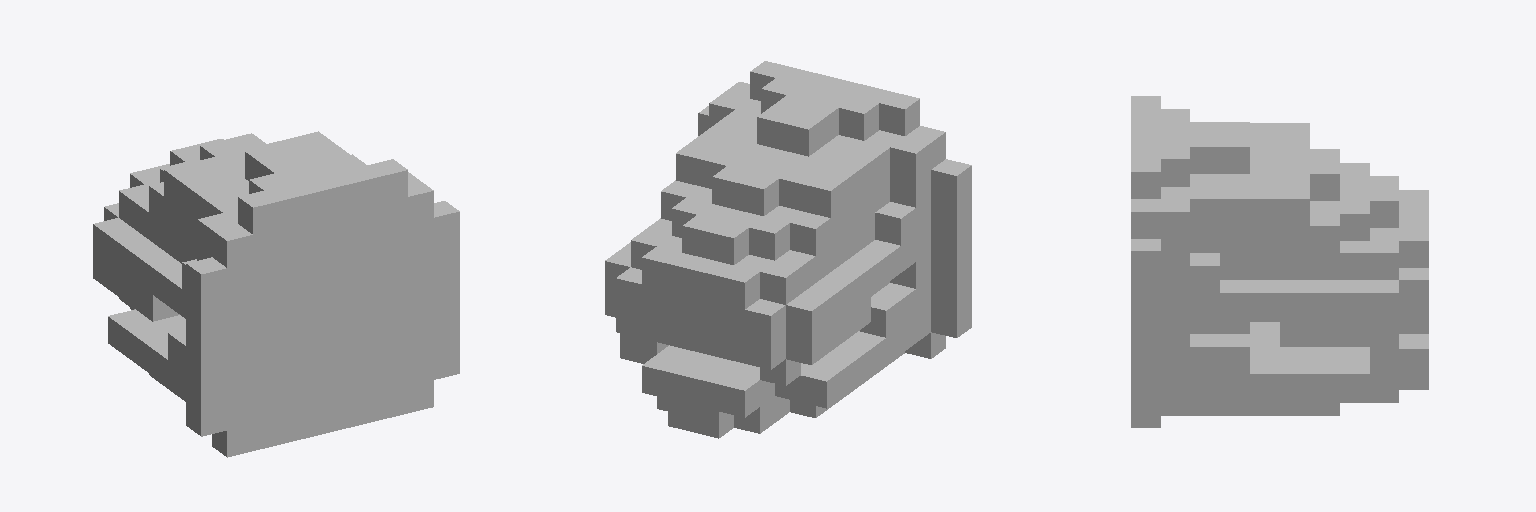
File: head.obj
The picture shows the model from 3 angles: view 1: azimuth 30°, elevation 25°; view 2: azimuth 150°, elevation 25°; view 3: azimuth 270°, elevation 25°; orthographic projection.
Visible parts, largest first — view 1: object 1; view 2: object 1; view 3: object 1.
Boxes of the visible parts, box(x1,y1,x2,y2) form: object 1: box(93, 131, 459, 457); object 1: box(605, 61, 971, 438); object 1: box(1131, 96, 1428, 427).
Size of the model in its own units: 1 by 0.9 by 1.